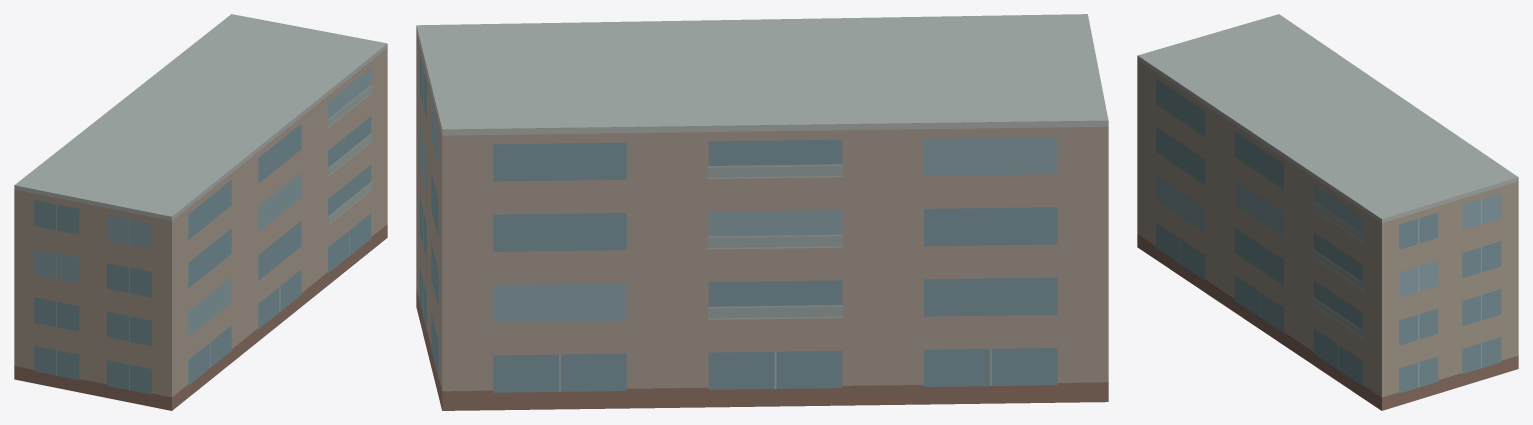
The model's file is survey-upis-32724184.glb.
The picture shows the model from 3 angles, left to right: view 1: azimuth 30°, elevation 25°; view 2: azimuth 150°, elevation 25°; view 3: azimuth 270°, elevation 25°; orthographic projection. The views are drawn at different scales.
Parts seen in each view (by area): view 1: survey-upis-32724184.tmp; view 2: survey-upis-32724184.tmp; view 3: survey-upis-32724184.tmp.
Boxes of the visible parts, x1,y1,x2,y2 form: survey-upis-32724184.tmp: (14,14,387,410); survey-upis-32724184.tmp: (416,14,1108,410); survey-upis-32724184.tmp: (1137,14,1518,410).
Size of the model in its own units: 25.23 by 11 by 19.81.
